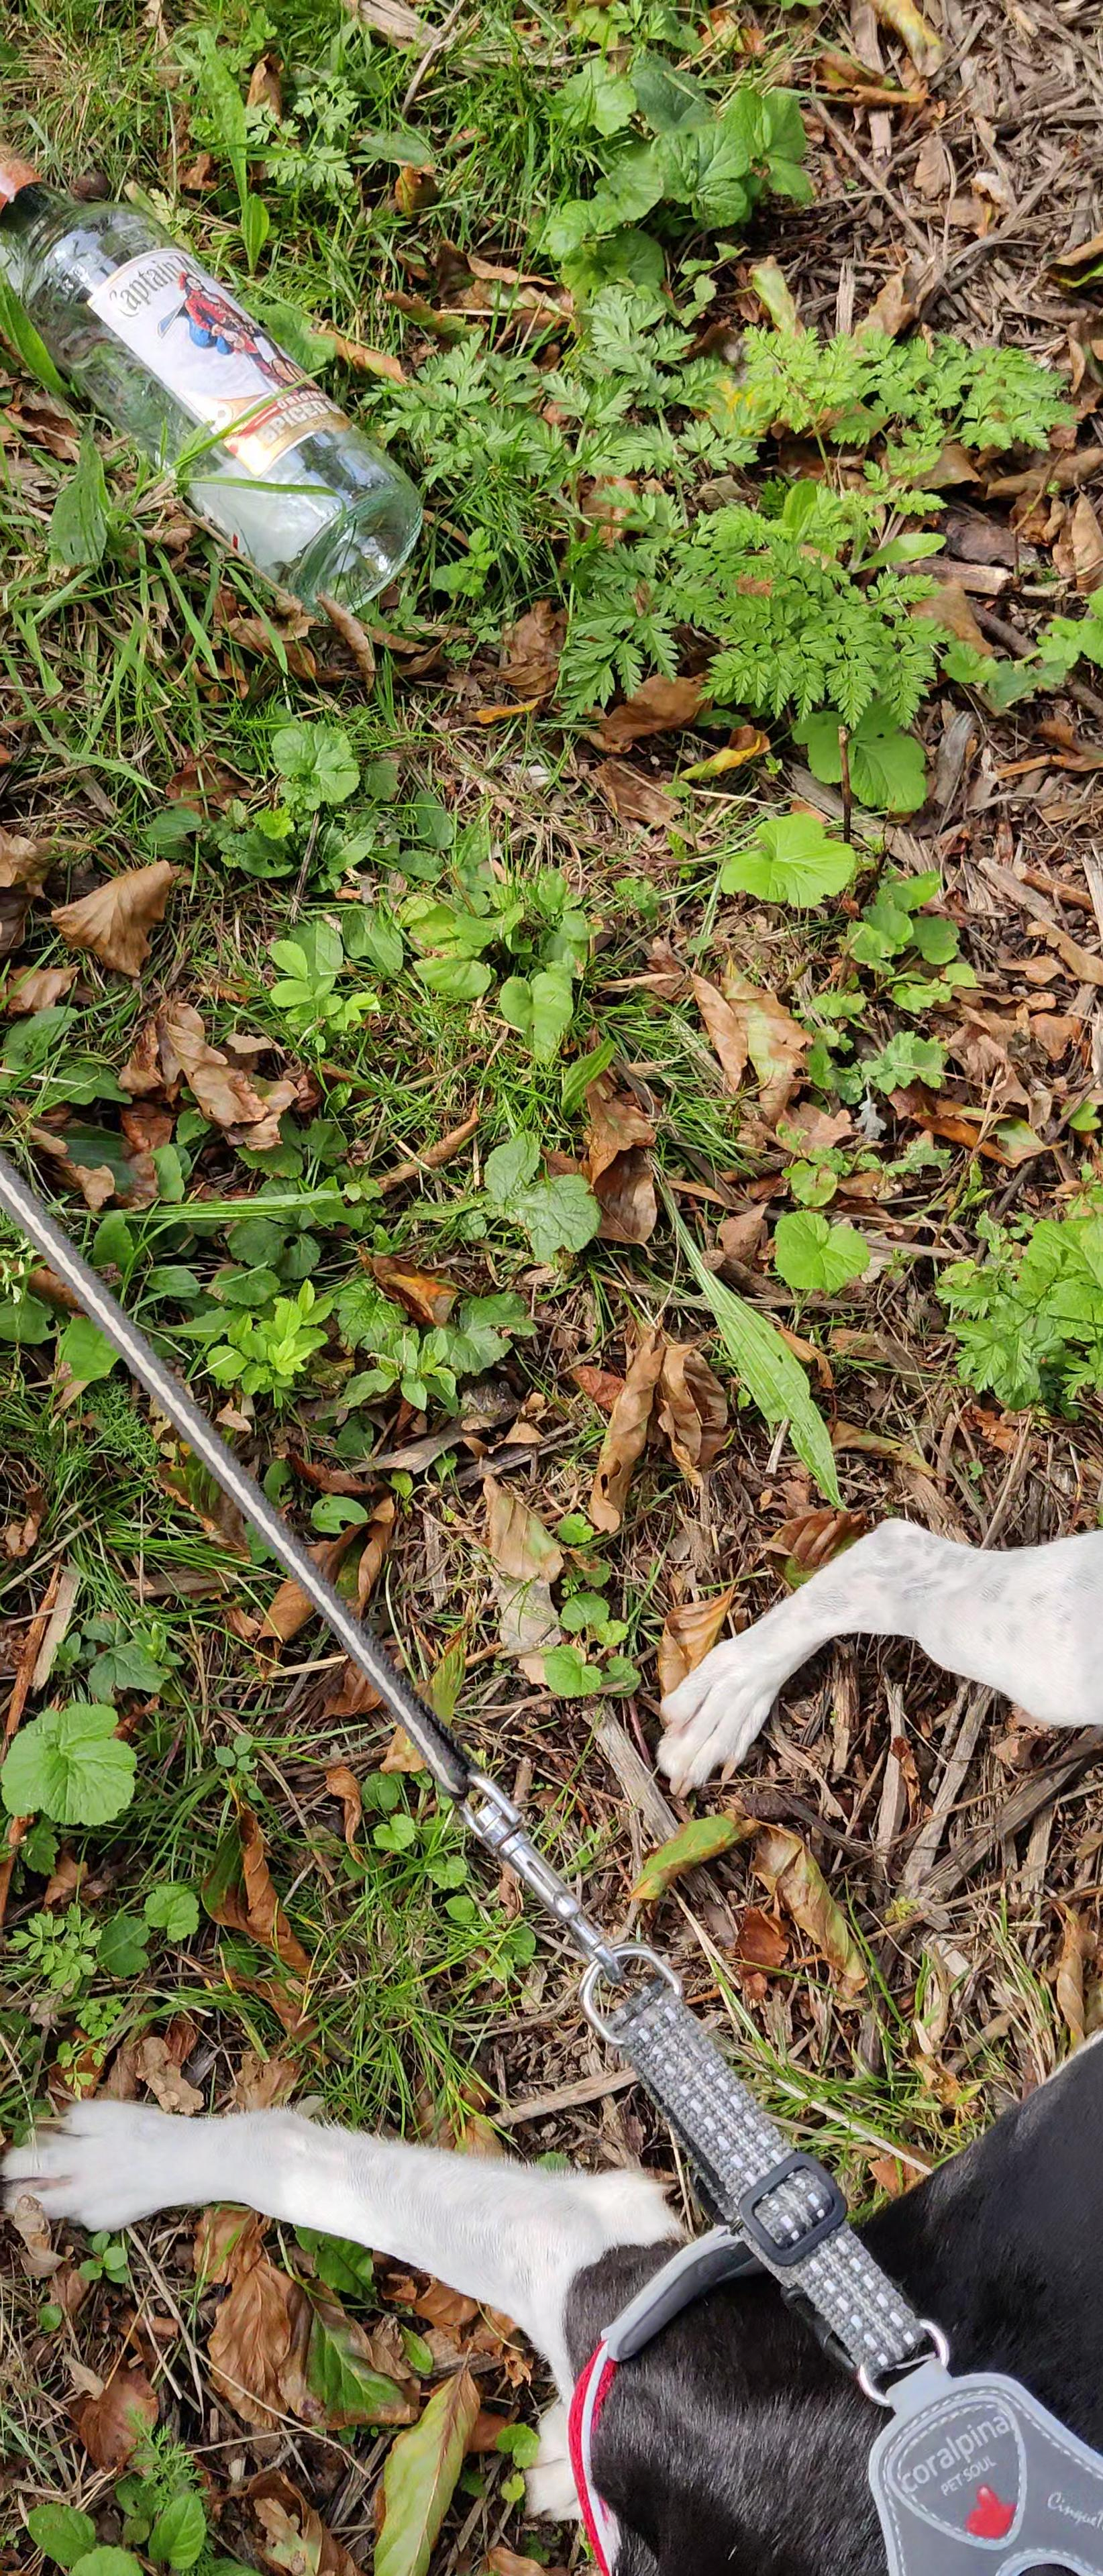Dog: (0, 1459, 1103, 2576)
